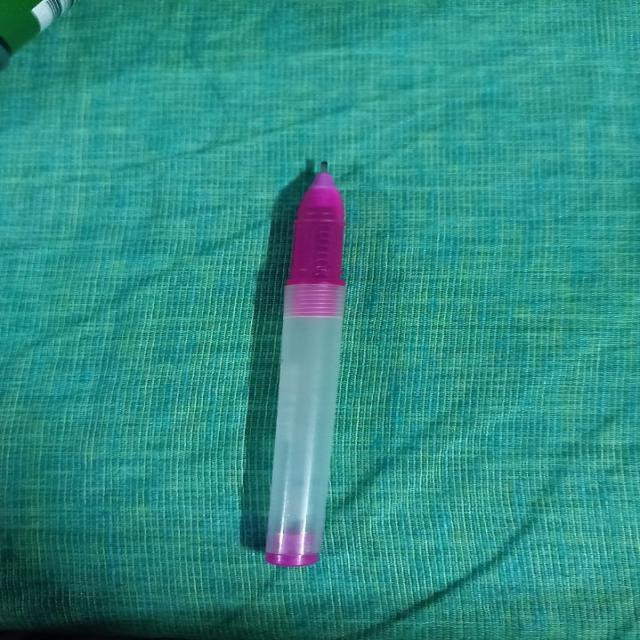pen: (241, 151, 365, 572)
